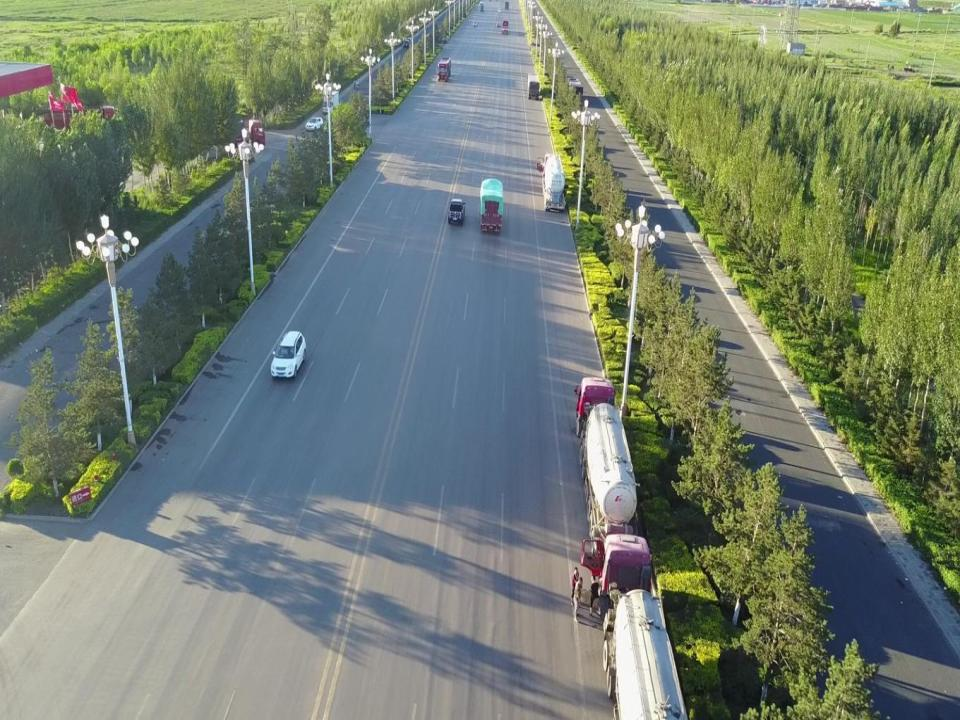car: (305, 117, 323, 131), (496, 22, 500, 26), (473, 21, 476, 25)
truck: (580, 533, 688, 720), (574, 378, 640, 554), (32, 106, 119, 143), (196, 116, 266, 150), (536, 153, 565, 212), (480, 178, 503, 232), (436, 57, 451, 82), (323, 90, 338, 114), (527, 73, 539, 101), (501, 20, 509, 34), (480, 1, 484, 11), (505, 2, 509, 9)
van: (270, 330, 306, 378), (448, 199, 466, 225), (403, 40, 409, 48), (498, 8, 502, 12)
